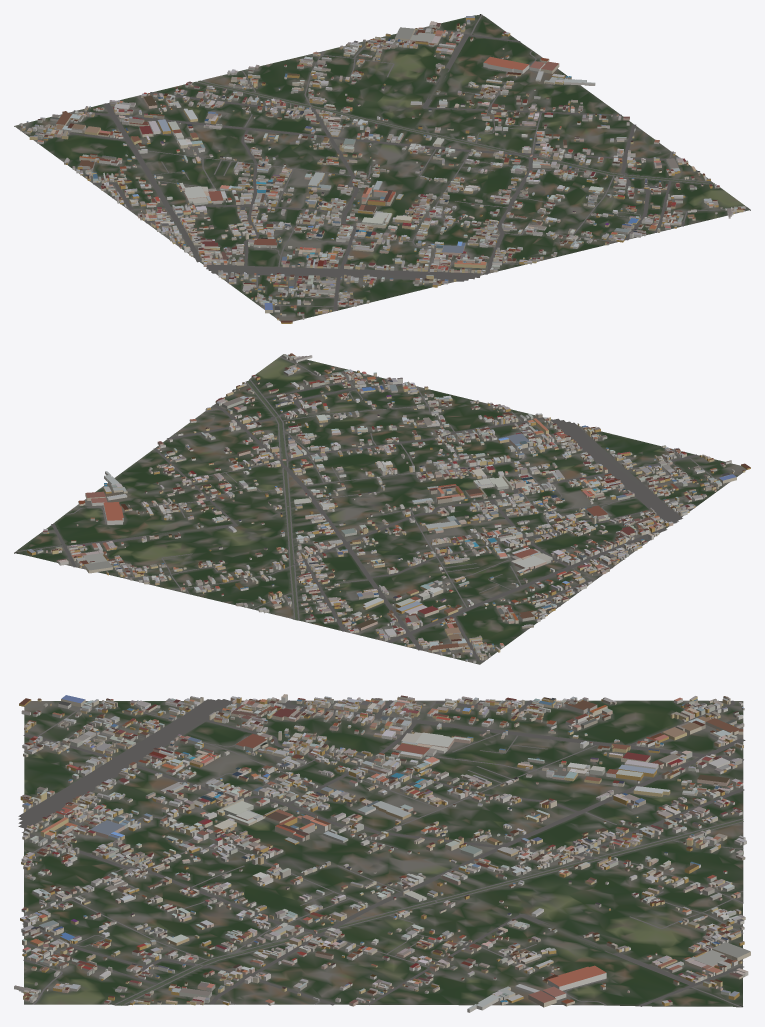
The picture shows the model from 3 angles, top to bottom: view 1: azimuth 30°, elevation 25°; view 2: azimuth 150°, elevation 25°; view 3: azimuth 270°, elevation 25°; orthographic projection. The views are drawn at different scales.
Parts seen in each view (by area): view 1: ground, buildings, roads, water; view 2: ground, buildings, roads, water; view 3: ground, buildings, roads, water.
Part boxes in pixels (bbox=[...]): ground: bbox=[14, 14, 750, 321]; buildings: bbox=[19, 16, 745, 323]; roads: bbox=[17, 14, 747, 310]; water: bbox=[198, 14, 714, 184]; ground: bbox=[14, 354, 746, 664]; buildings: bbox=[27, 353, 750, 662]; roads: bbox=[14, 356, 717, 661]; water: bbox=[14, 381, 297, 619]; ground: bbox=[24, 700, 743, 1007]; buildings: bbox=[14, 694, 750, 1012]; roads: bbox=[18, 699, 745, 1006]; water: bbox=[120, 820, 743, 1006].
Bounding box in the file's own units: 1443 × 25.39 × 1435.
